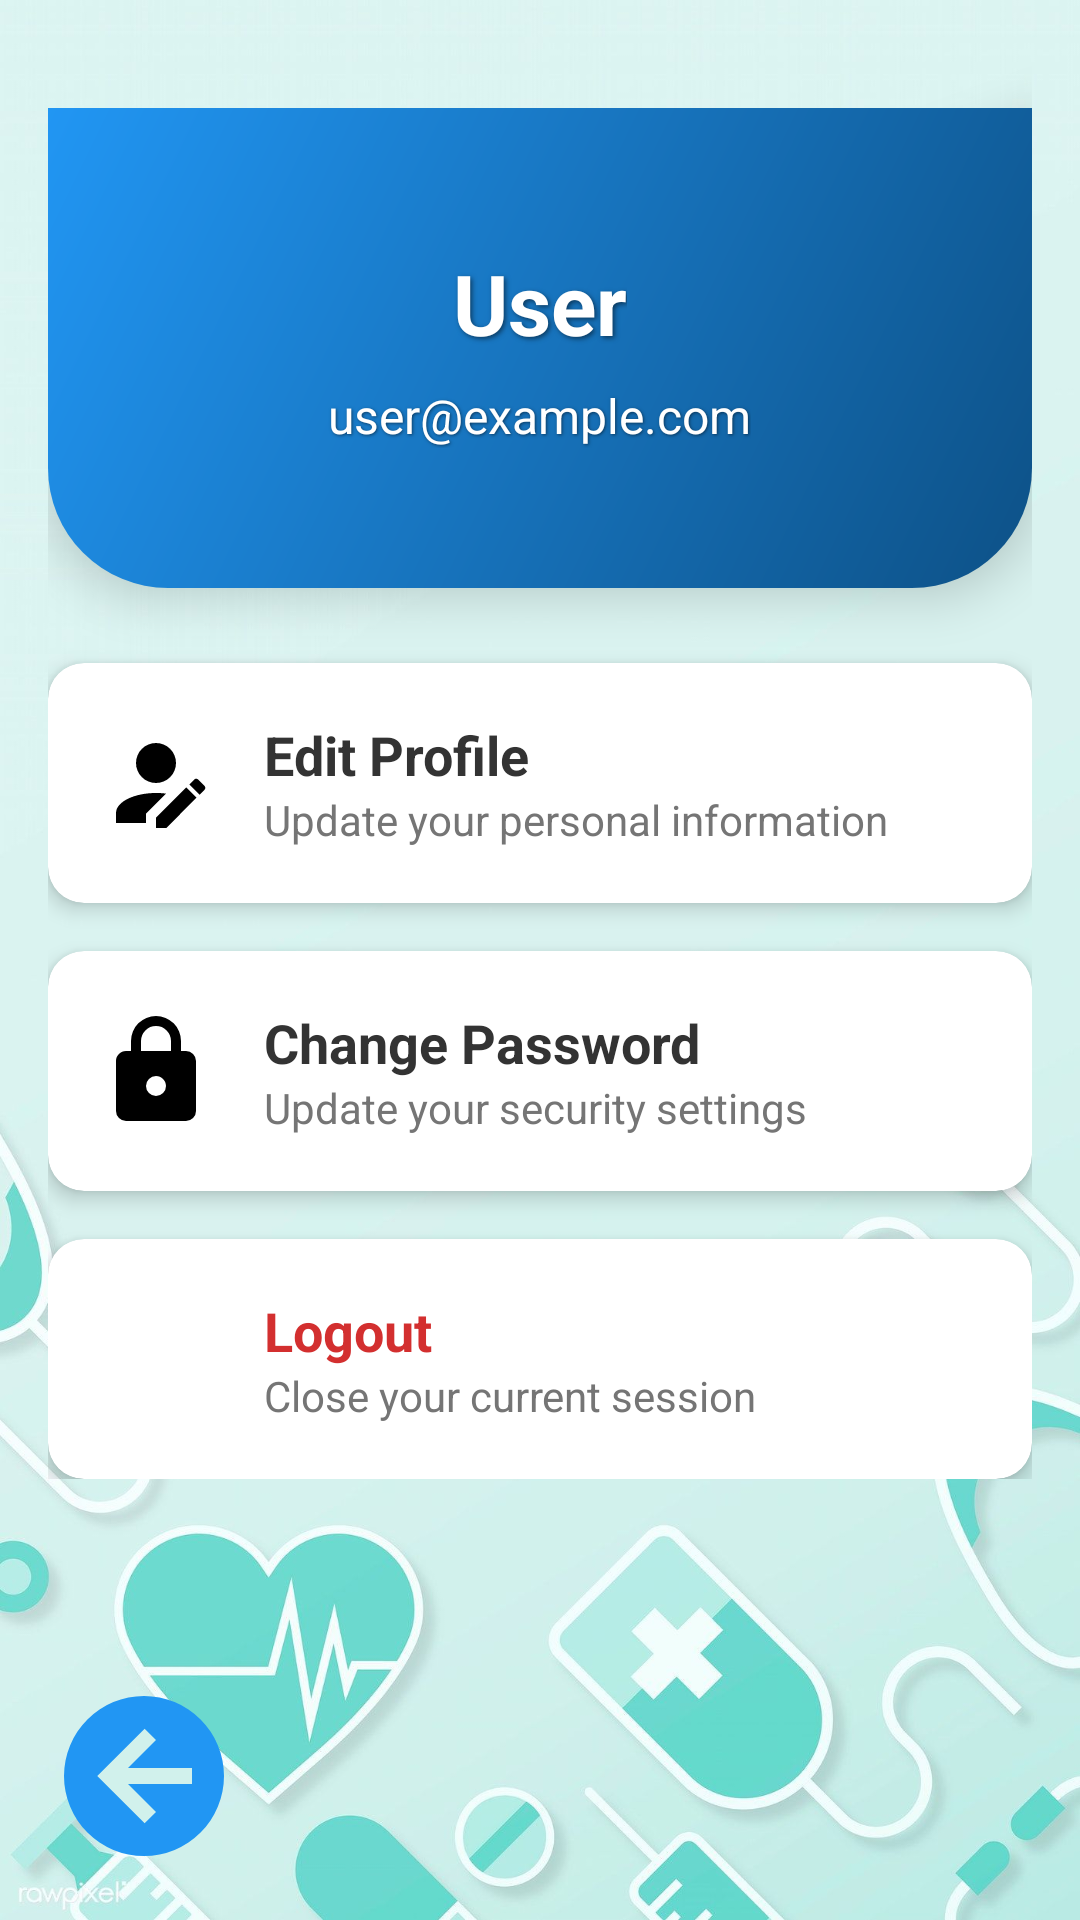

Where icons sit on this 1080w x 1920h app screen, as [x1, y1, x2, y2]:
Go back: [48, 1680, 240, 1872]
